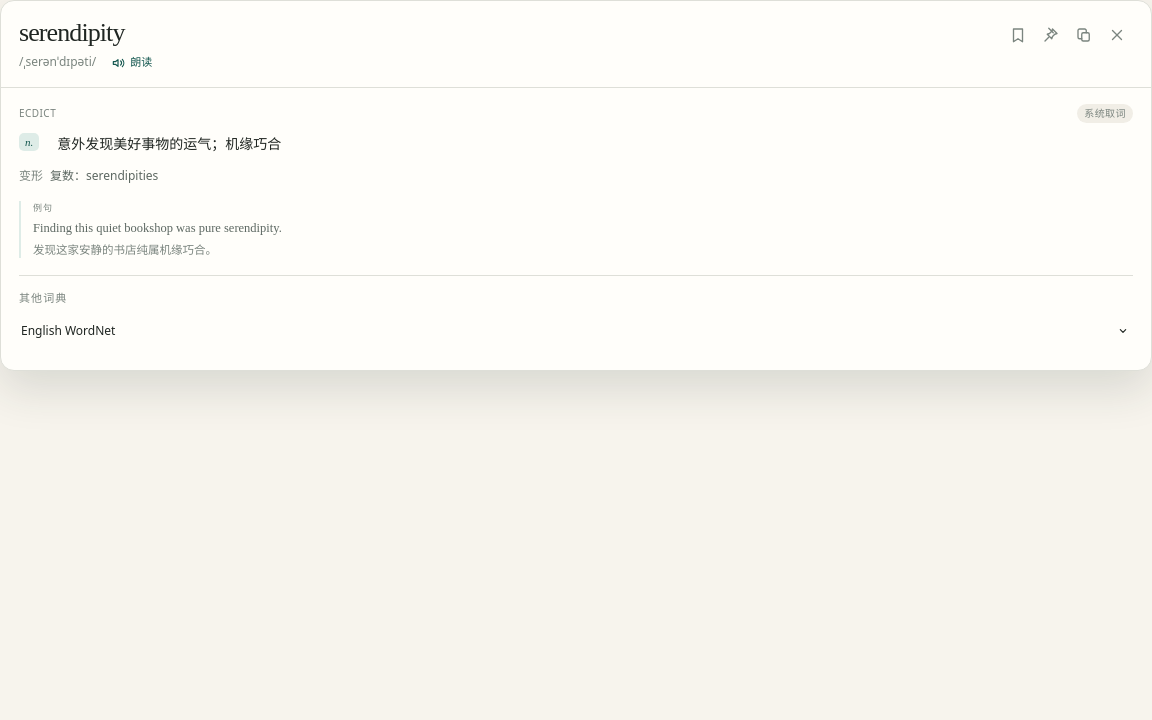
Test: OverlayCard › saves the current word into a notebook
The image size is (1152, 720).
Click the button named "收藏到本子" at (1018, 35), box [1002, 19, 1034, 51]
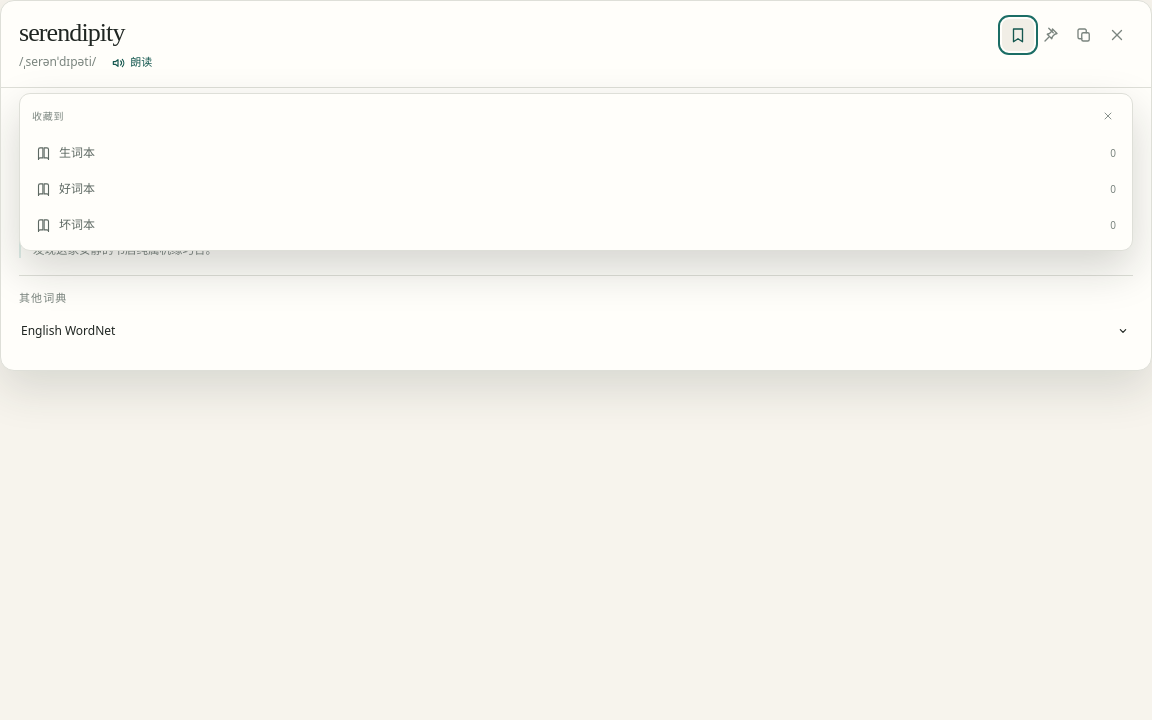
expect the dialog named "收藏到本子" is shown: met, box [19, 93, 1133, 251]
Click the button "生词本 0" at (77, 152), box [28, 136, 1124, 170]
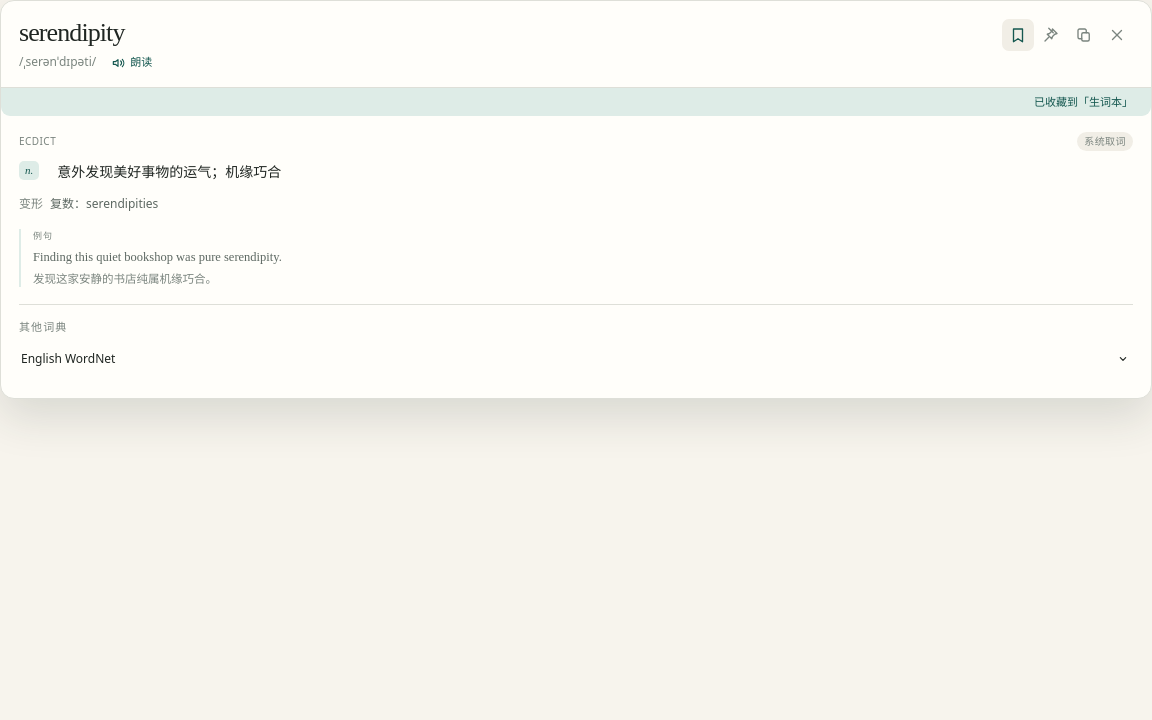
expect the text "已收藏到「生词本」" is shown: met, box [1, 88, 1151, 116]
